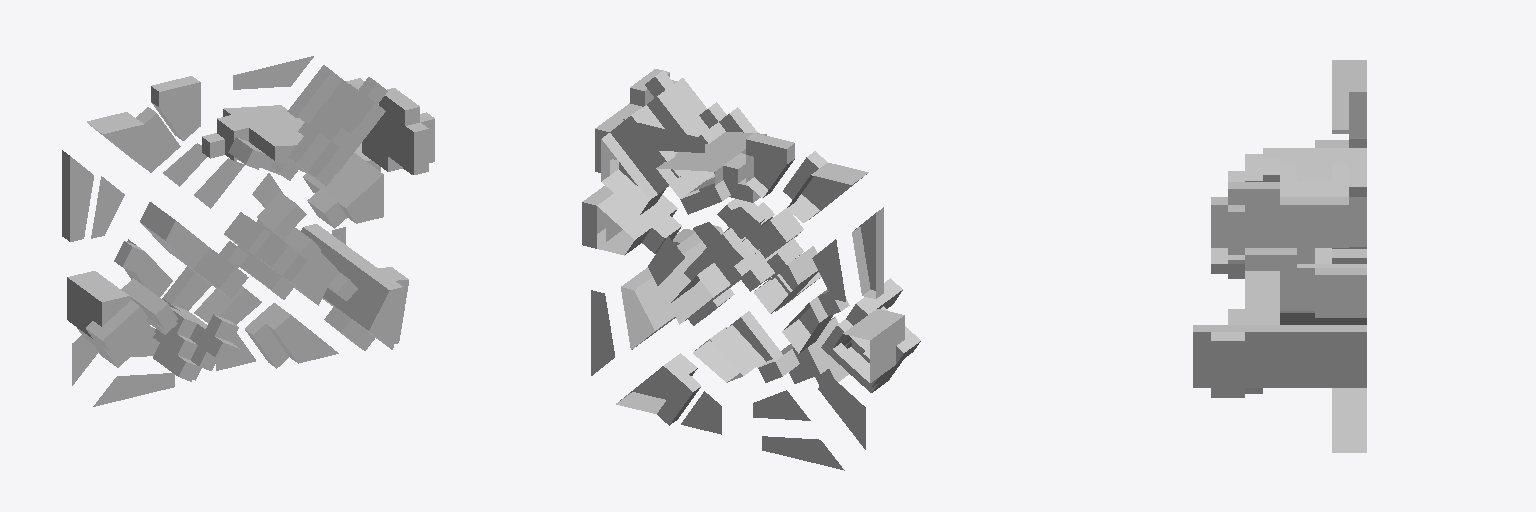
File: my_city6.obj
The picture shows the model from 3 angles: view 1: azimuth 30°, elevation 25°; view 2: azimuth 150°, elevation 25°; view 3: azimuth 270°, elevation 25°; orthographic projection.
Parts seen in each view (by area): view 1: fixed, up, vertical, fixed_vertical; view 2: fixed, fixed_vertical, vertical; view 3: fixed, vertical, fixed_vertical.
Part boxes in pixels (x1,y1,x2,y2): fixed: (62,56,402,406); up: (159,107,434,381); vertical: (170,100,434,376); fixed_vertical: (146,77,410,370); fixed: (582,77,920,470); fixed_vertical: (639,70,864,376); vertical: (648,69,838,332); fixed: (1228,60,1366,452); vertical: (1193,154,1262,397); fixed_vertical: (1211,159,1279,397).
Size of the model in its own units: 102 by 97.97 by 50.